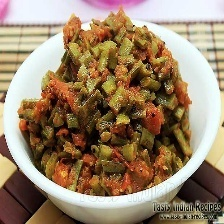sabzi: (17, 9, 193, 196)
